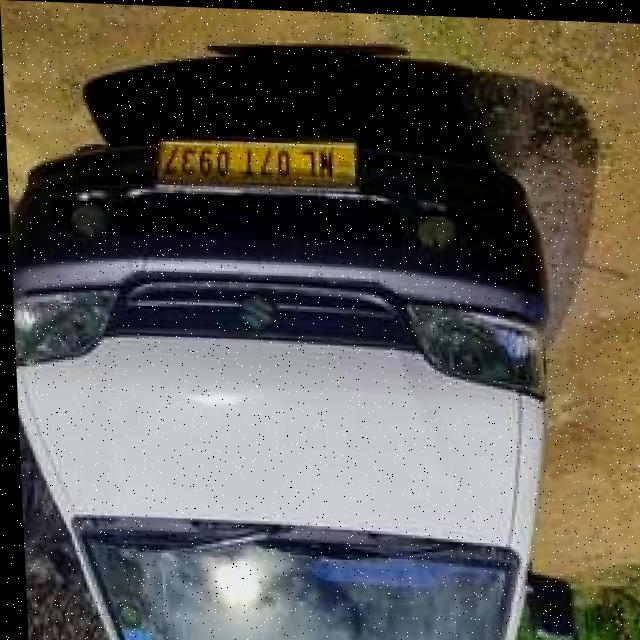plate: (156, 130, 361, 190)
